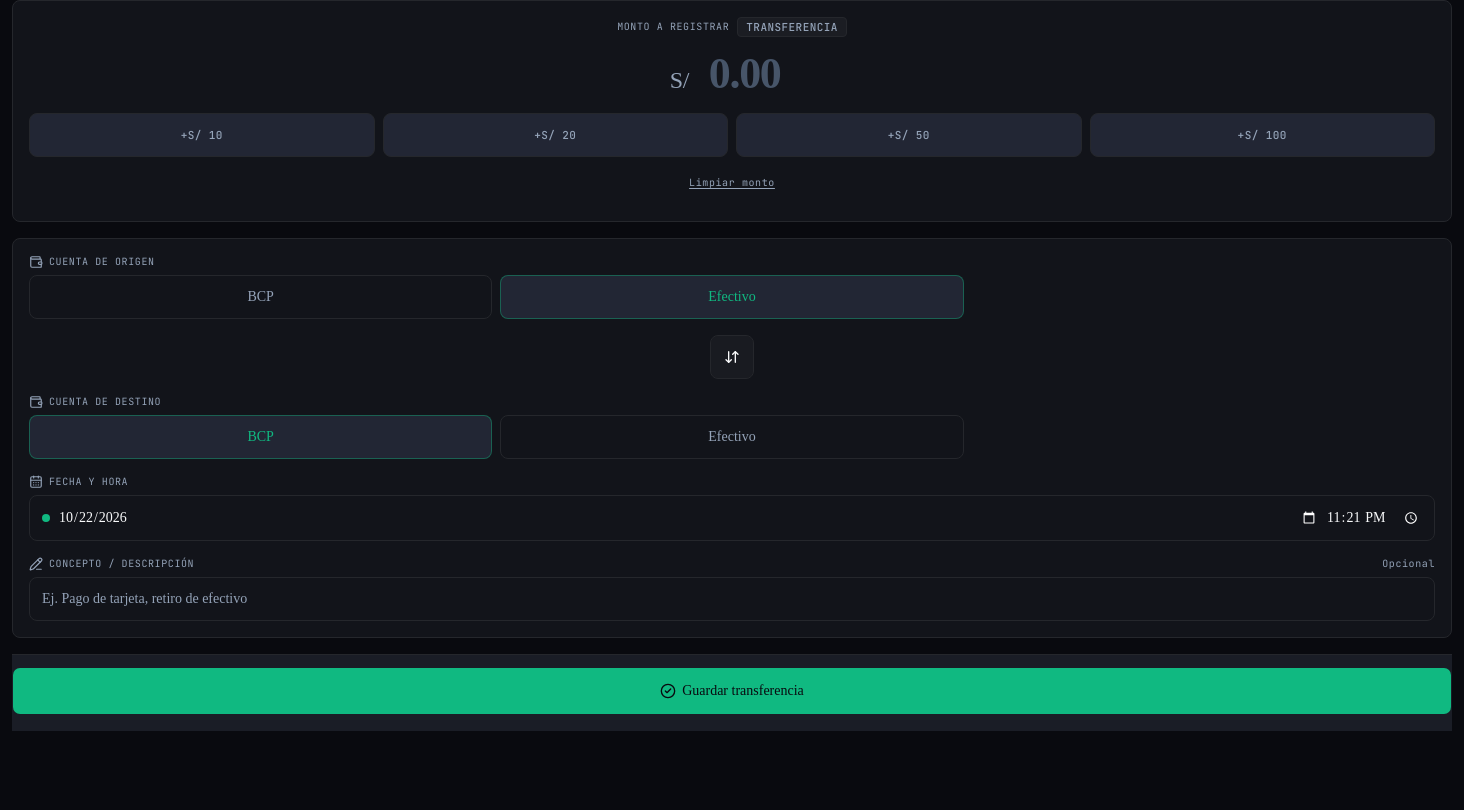
Test: TransferForm › swaps instead of allowing the same account on both sides
The width and height of the screenshot is (1464, 810).
# destination is BCP, origin Efectivo: choosing Efectivo as destination swaps the pair
Click the 2nd radio button labelled "Efectivo" at (732, 437), box [500,415,964,459]
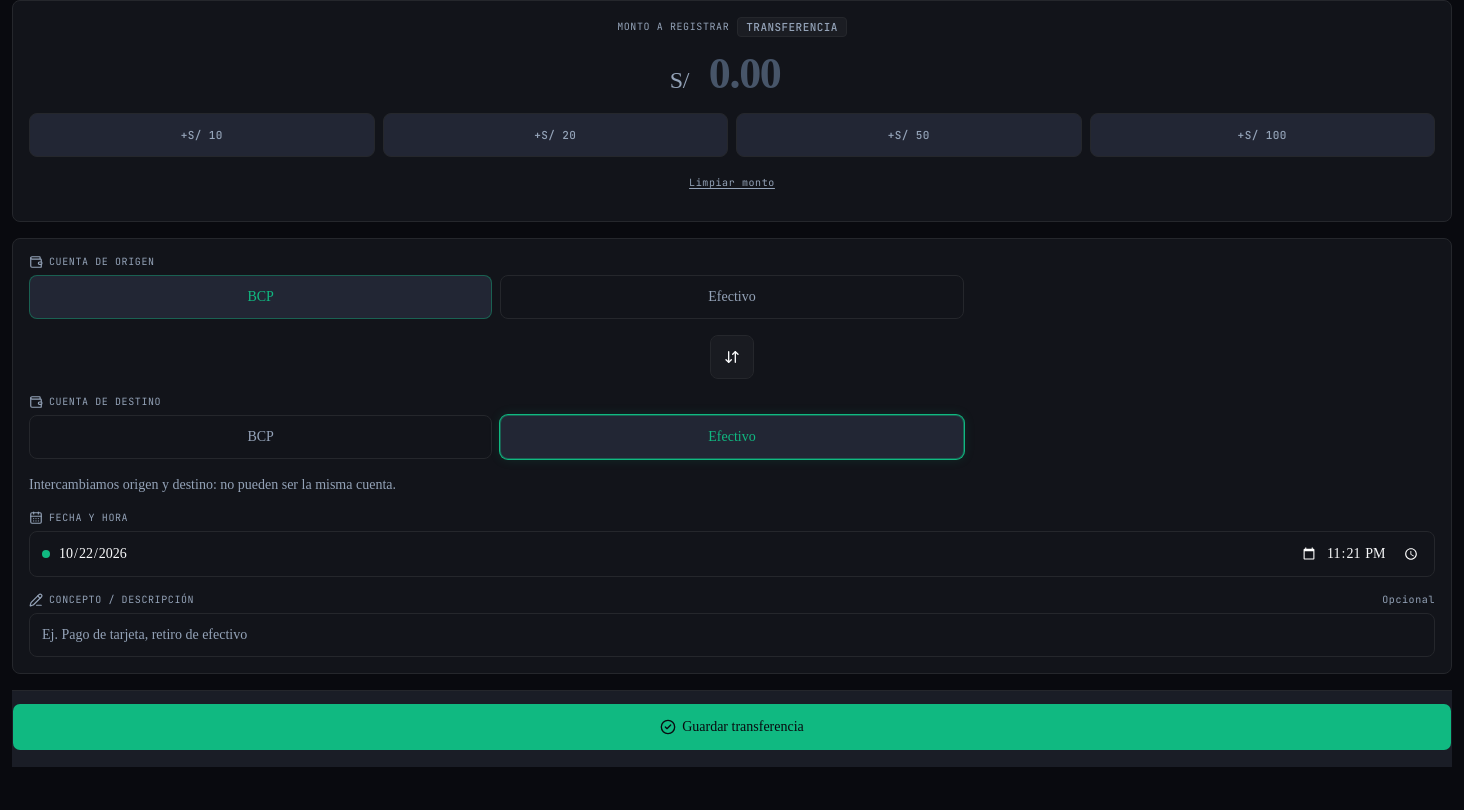
Expected: the radio button labelled "BCP" below "Cuenta de origen" is shown, [247,289,274,304]
Result: the message shows "Intercambiamos origen y destino" at [29,477,396,492]
